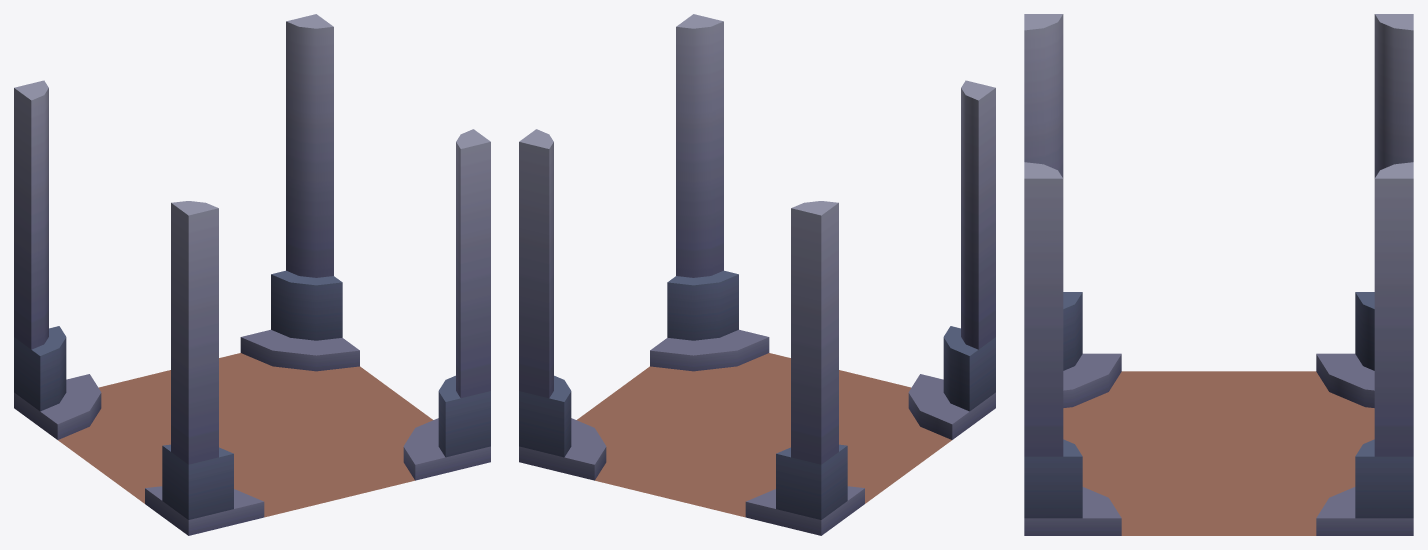
File: corridor-intersection.glb
3 renders of one model, left to right at view 1: azimuth 30°, elevation 25°; view 2: azimuth 150°, elevation 25°; view 3: azimuth 270°, elevation 25°, orthographic. The views are drawn at different scales.
Parts seen in each view (by area): view 1: corridor-intersection4; view 2: corridor-intersection4; view 3: corridor-intersection4.
Boxes of the visible parts, bbox=[...] form: corridor-intersection4: bbox=[14, 14, 490, 535]; corridor-intersection4: bbox=[519, 14, 995, 535]; corridor-intersection4: bbox=[1024, 14, 1413, 535].
Bounding box in the file's own units: 4 × 4.05 × 4.
1 material, 1 textured.
